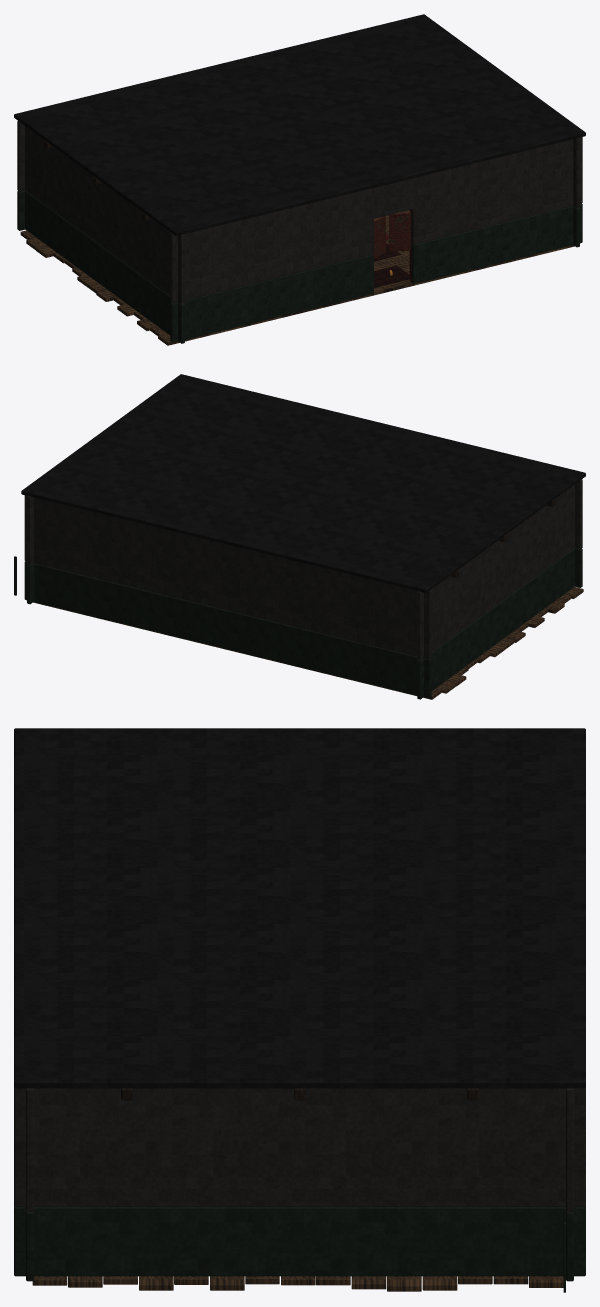
File: bar.fbx
The picture shows the model from 3 angles, top to bottom: view 1: azimuth 30°, elevation 25°; view 2: azimuth 150°, elevation 25°; view 3: azimuth 270°, elevation 25°; orthographic projection. The views are drawn at different scales.
Parts seen in each view (by area): view 1: Bar_Techo, Bar_Pared_S_Alta_Izq, Bar_Pared_S_Alta_Der, Bar_Pared_O_Alta, Bar_Pared_S_Baja_Izq, Bar_Pared_S_Baja_Der, Bar_Pared_O_Baja, Bar_Suelo_Tablas, Bar_Pared_S_Dintel, Bar_Saloona_Der, Bar_Pared_N_Alta, Bar_Alfombra_Puerta (+2 smaller); view 2: Bar_Techo, Bar_Pared_N_Alta, Bar_Pared_N_Baja, Bar_Pared_O_Alta, Bar_Pared_O_Baja, Bar_Suelo_Tablas, Bar_Pared_S_Alta_Izq, Bar_Pared_E_Alta; view 3: Bar_Techo, Bar_Pared_E_Alta, Bar_Pared_E_Baja, Bar_Suelo_Tablas, Bar_Pared_N_Alta, Bar_Pared_S_Alta_Der.
Part boxes in pixels (bbox=[...]): Bar_Techo: bbox=[14, 14, 585, 235]; Bar_Pared_S_Alta_Izq: bbox=[170, 188, 373, 303]; Bar_Pared_S_Alta_Der: bbox=[411, 137, 582, 244]; Bar_Pared_O_Alta: bbox=[25, 126, 184, 304]; Bar_Pared_S_Baja_Izq: bbox=[170, 254, 373, 342]; Bar_Pared_S_Baja_Der: bbox=[411, 203, 582, 283]; Bar_Pared_O_Baja: bbox=[25, 190, 184, 343]; Bar_Suelo_Tablas: bbox=[20, 210, 574, 345]; Bar_Pared_S_Dintel: bbox=[371, 178, 415, 218]; Bar_Saloona_Der: bbox=[389, 212, 410, 251]; Bar_Pared_N_Alta: bbox=[17, 121, 24, 191]; Bar_Alfombra_Puerta: bbox=[374, 265, 409, 287]; Bar_Techo: bbox=[21, 374, 585, 592]; Bar_Pared_N_Alta: bbox=[24, 495, 431, 659]; Bar_Pared_N_Baja: bbox=[24, 561, 431, 698]; Bar_Pared_O_Alta: bbox=[417, 484, 574, 660]; Bar_Pared_O_Baja: bbox=[417, 548, 574, 699]; Bar_Suelo_Tablas: bbox=[33, 587, 583, 699]; Bar_Pared_S_Alta_Izq: bbox=[575, 479, 582, 549]; Bar_Pared_E_Alta: bbox=[27, 496, 33, 565]; Bar_Techo: bbox=[14, 728, 585, 1088]; Bar_Pared_E_Alta: bbox=[14, 1087, 585, 1206]; Bar_Pared_E_Baja: bbox=[14, 1206, 585, 1276]; Bar_Suelo_Tablas: bbox=[32, 1276, 563, 1291]; Bar_Pared_N_Alta: bbox=[566, 1088, 573, 1211]; Bar_Pared_S_Alta_Der: bbox=[26, 1088, 33, 1211].
Bounding box in the file's own units: 13.12 × 3.42 × 8.6.
30 materials, 14 textured.
